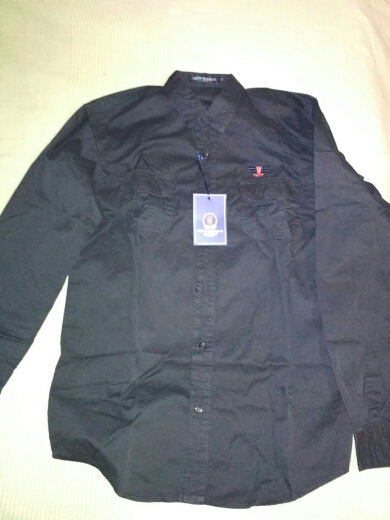shirts: (27, 66, 390, 487)
